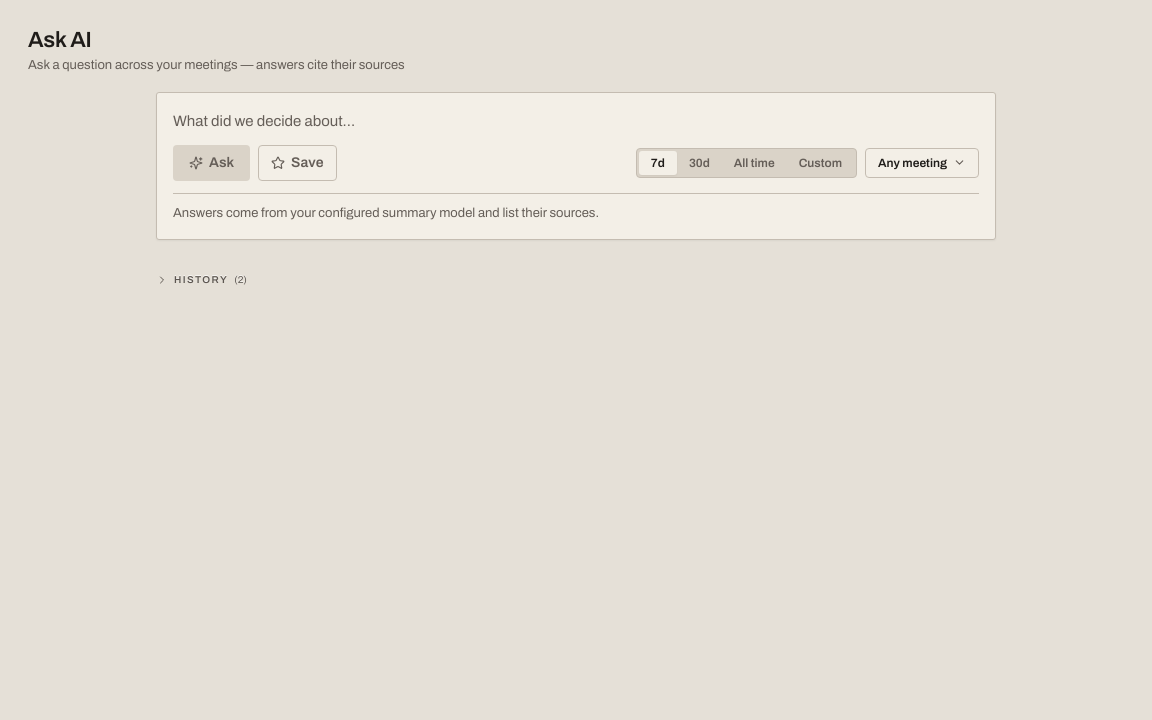
Test: Ask AI — history expands in place › is an accordion — opening one closes the other
The width and height of the screenshot is (1152, 720).
Click the button "History (2)": (201, 280) [156,272,247,287]
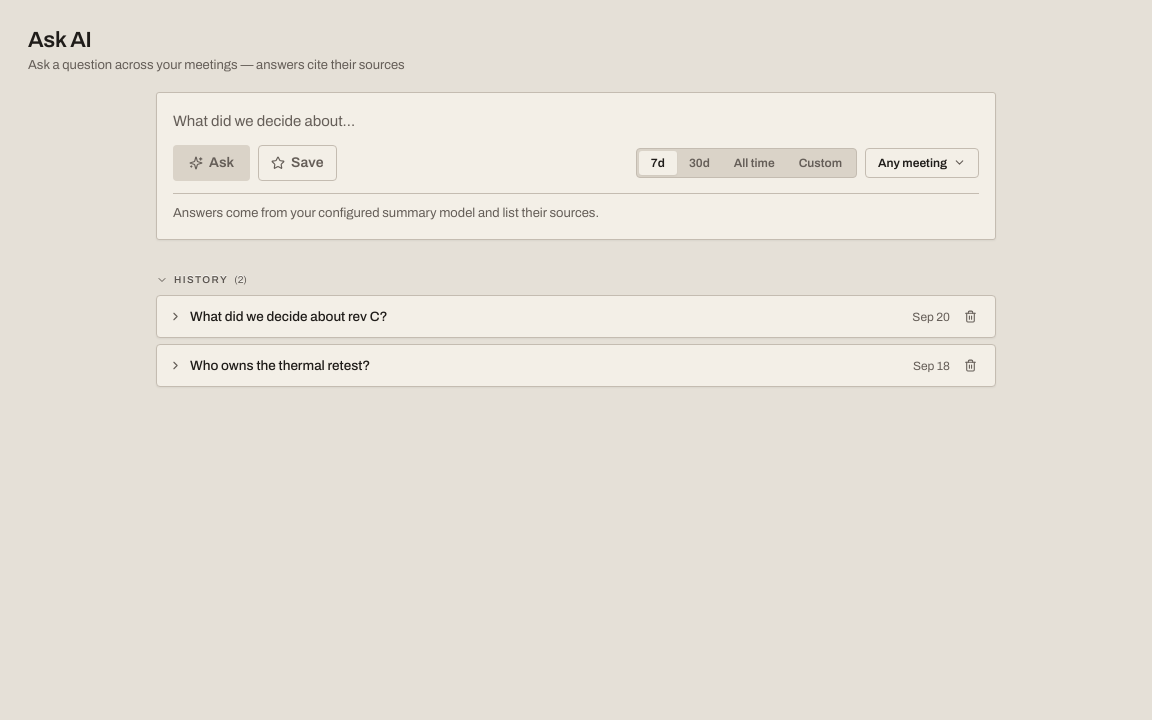
Click the button "What did we decide about rev C? Sep 20": (289, 316) [169,307,950,327]
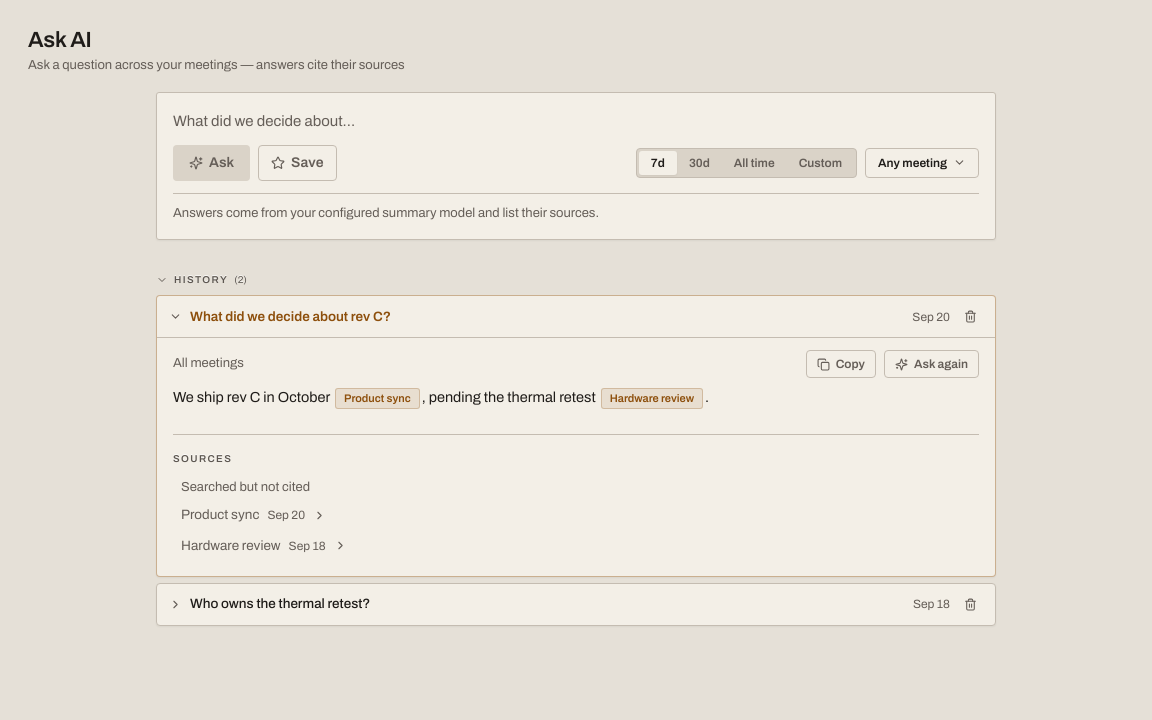
Result: the text "We ship rev C in October" is shown at [173,389,333,405]
Click the button "Who owns the thermal retest? Sep 18": (280, 604) [169,594,950,614]
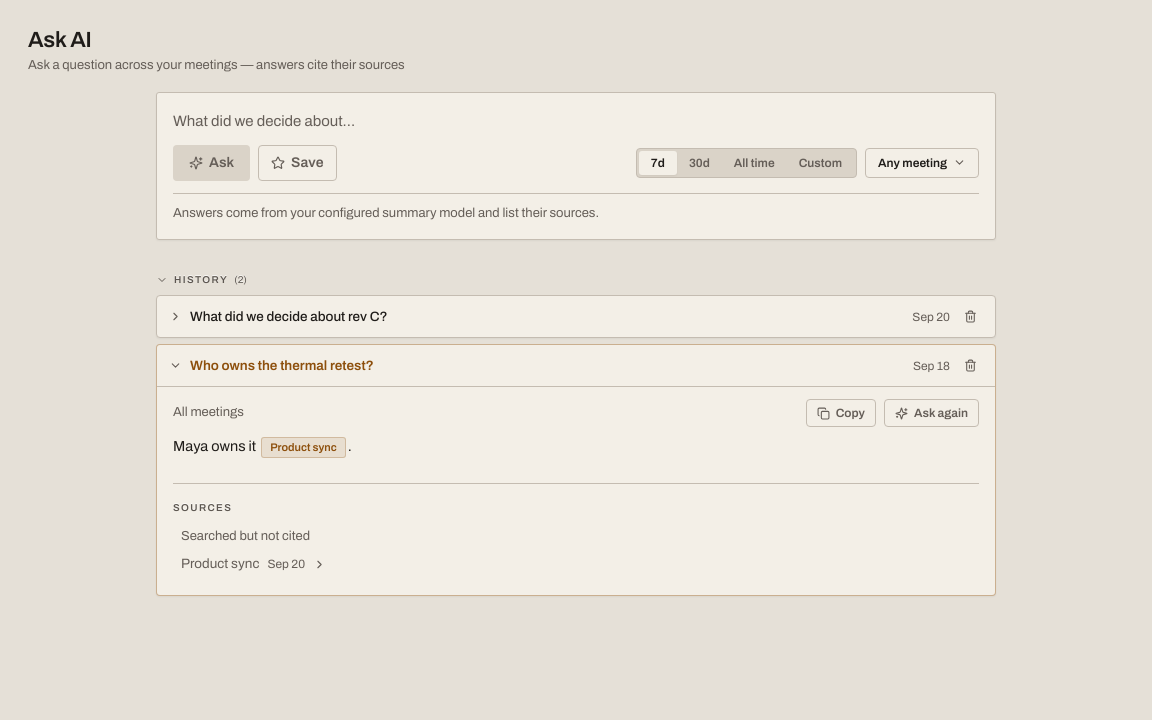
Result: the text "Maya owns it Product sync ." is shown at [173,437,352,458]
Result: the text "We ship rev C in October" is gone
